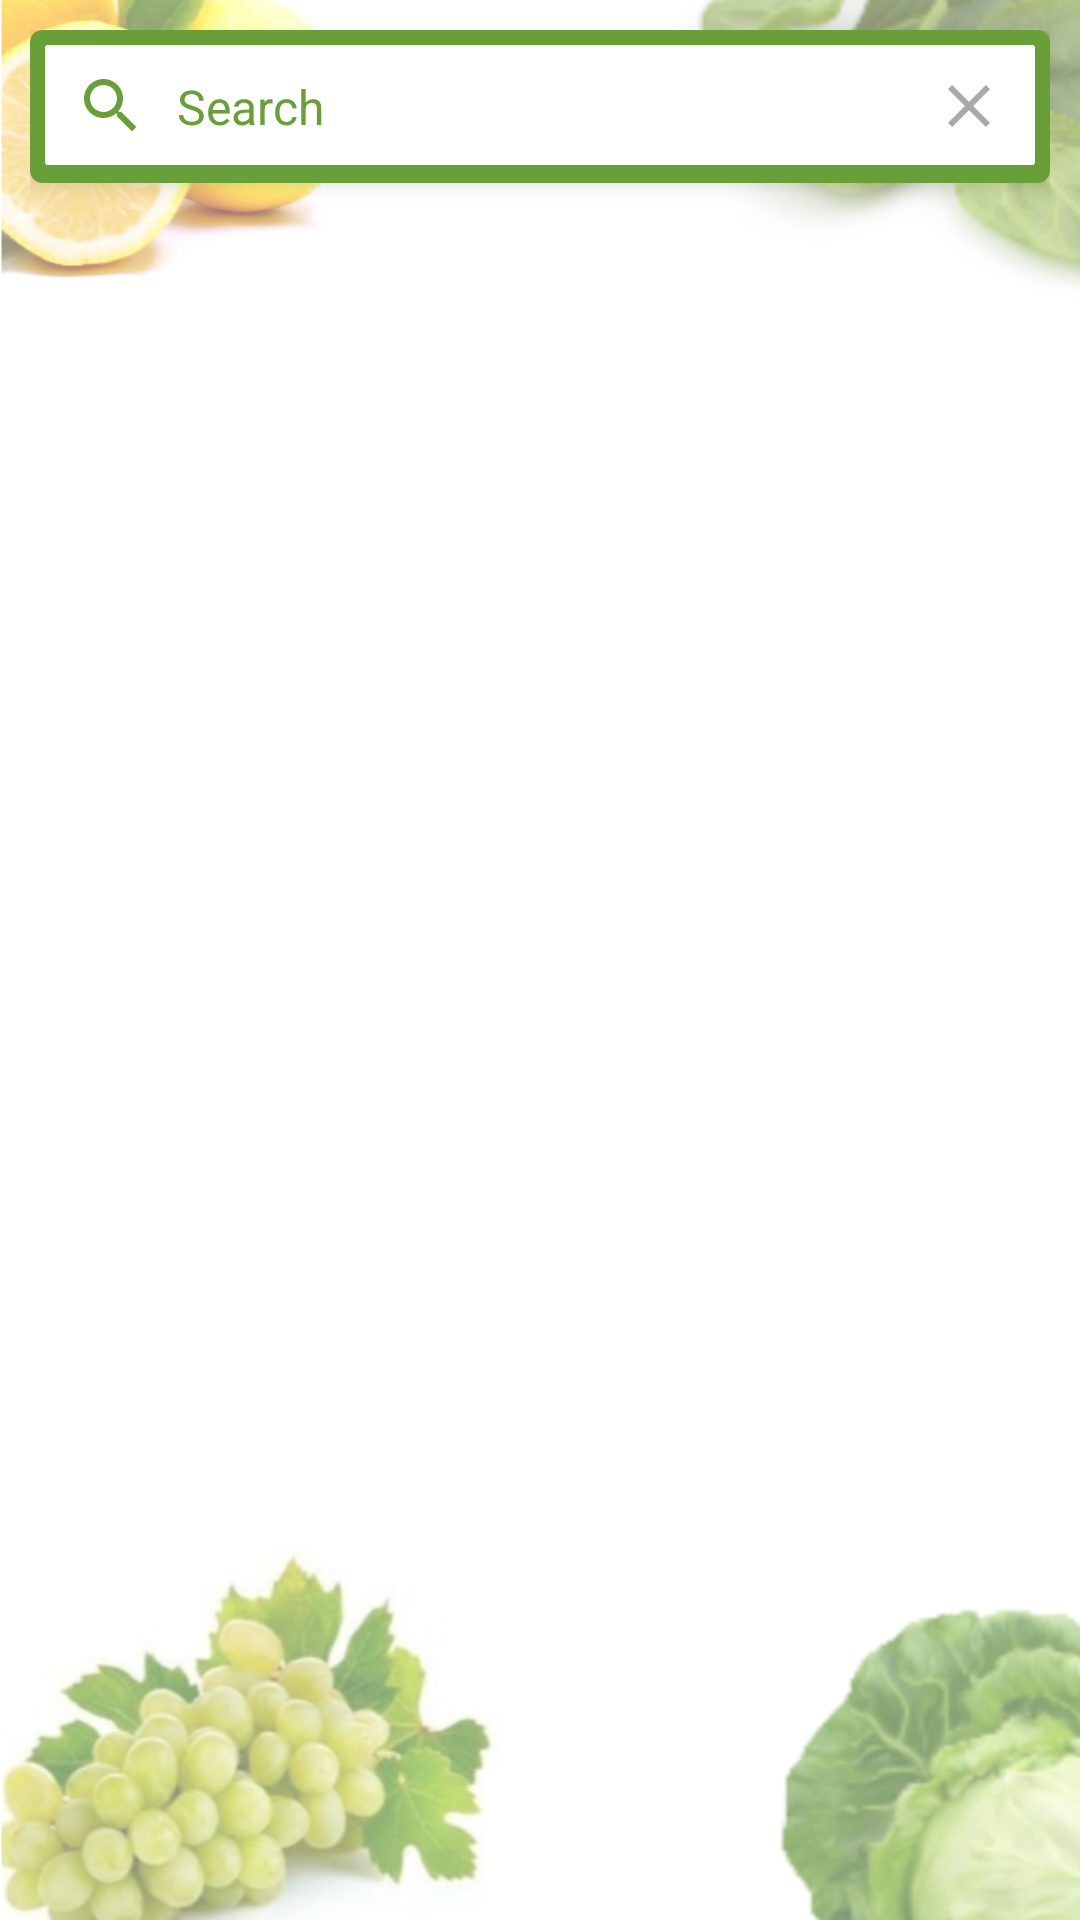

Icons on this 1080 × 1920 Android screen, each with its box as region(x1, y1, x2, y2):
clear: region(948, 85, 990, 127)
